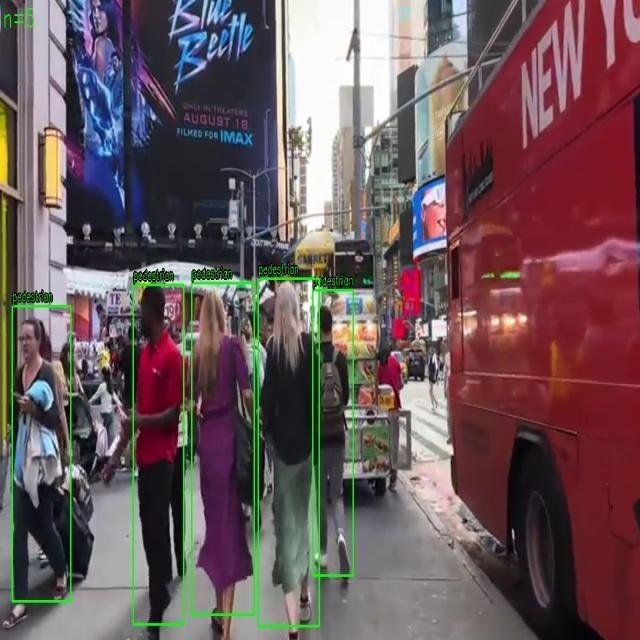person: (258, 278, 320, 627), (192, 282, 254, 616), (12, 306, 71, 602), (133, 284, 184, 624), (312, 290, 353, 576)
